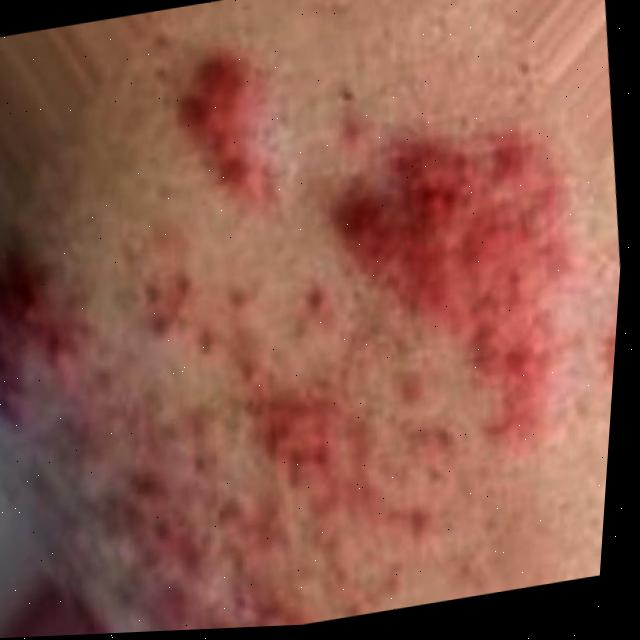Shingles: (0, 2, 619, 640)
